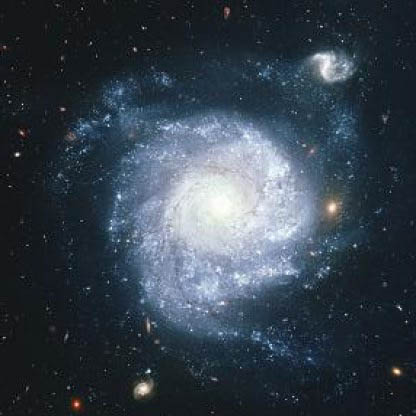NGC 1309: (56, 44, 378, 398)
